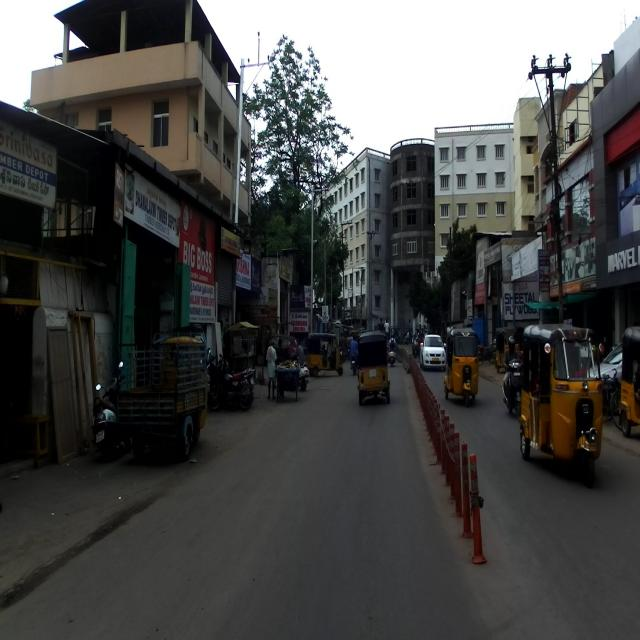autorickshaw: (518, 324, 604, 486), (116, 327, 212, 461), (444, 326, 479, 408)
motorcycle_Hero: (208, 354, 254, 413)
scooter: (90, 360, 132, 458)
